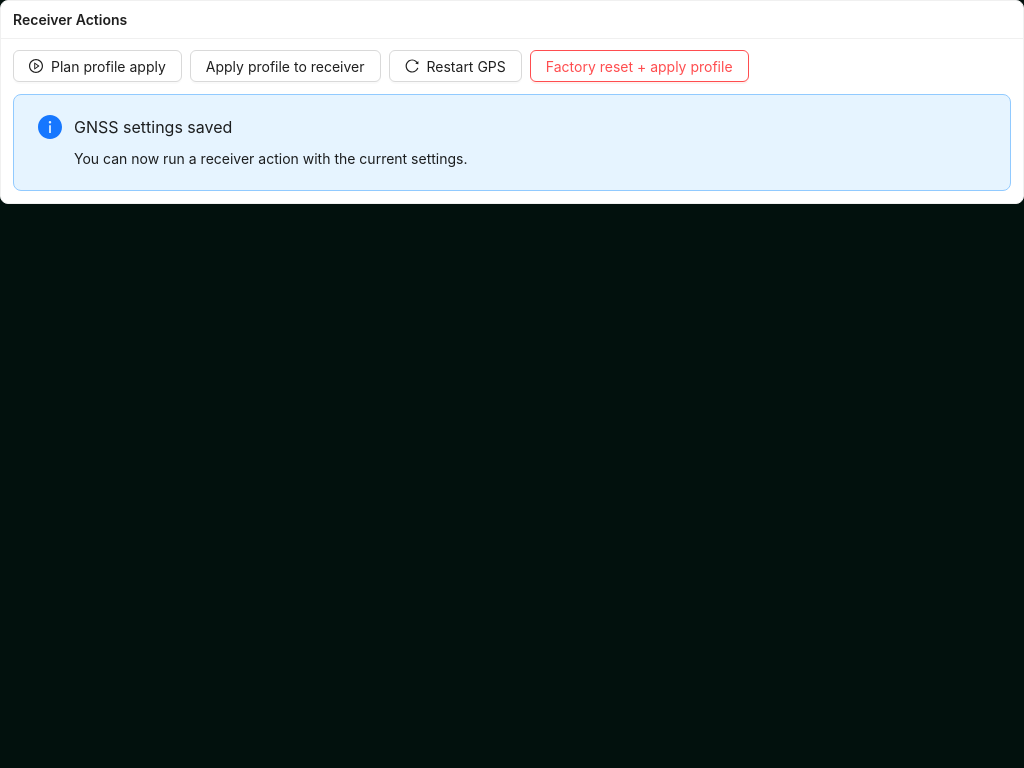
Test: GnssReceiverActionsCard › confirms before apply and sends confirm=true to the backend
Click the button "Apply profile to receiver" at (285, 66), box [190, 50, 380, 82]
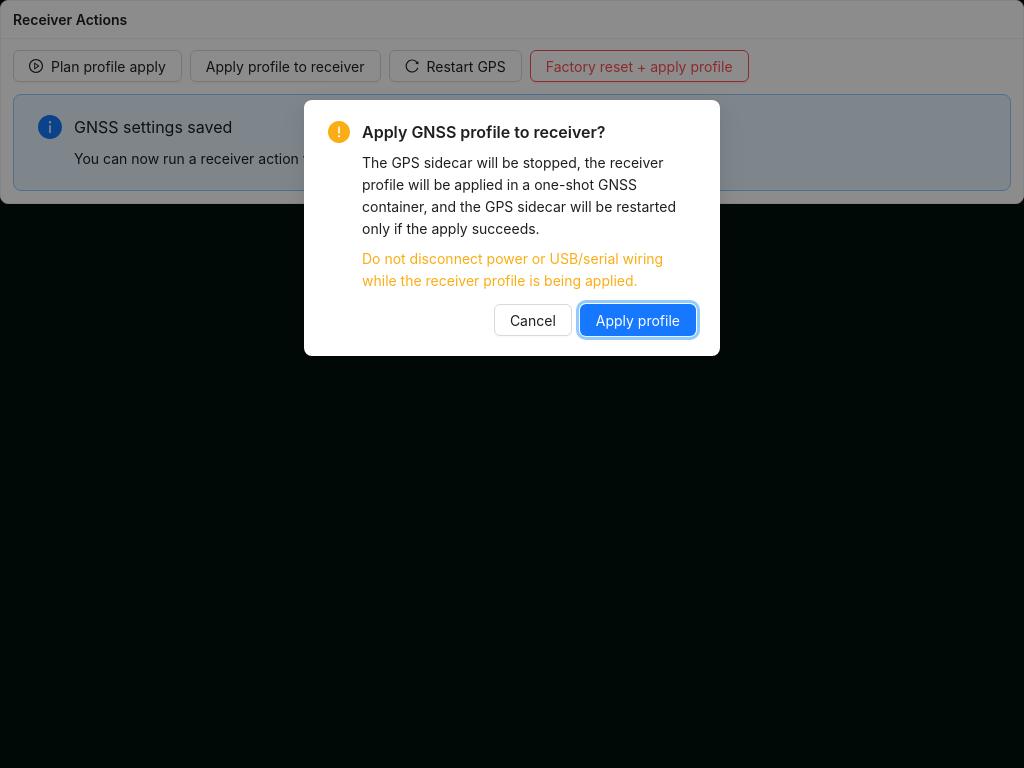
Click the button "Apply profile" at (638, 320), box [580, 304, 696, 336]
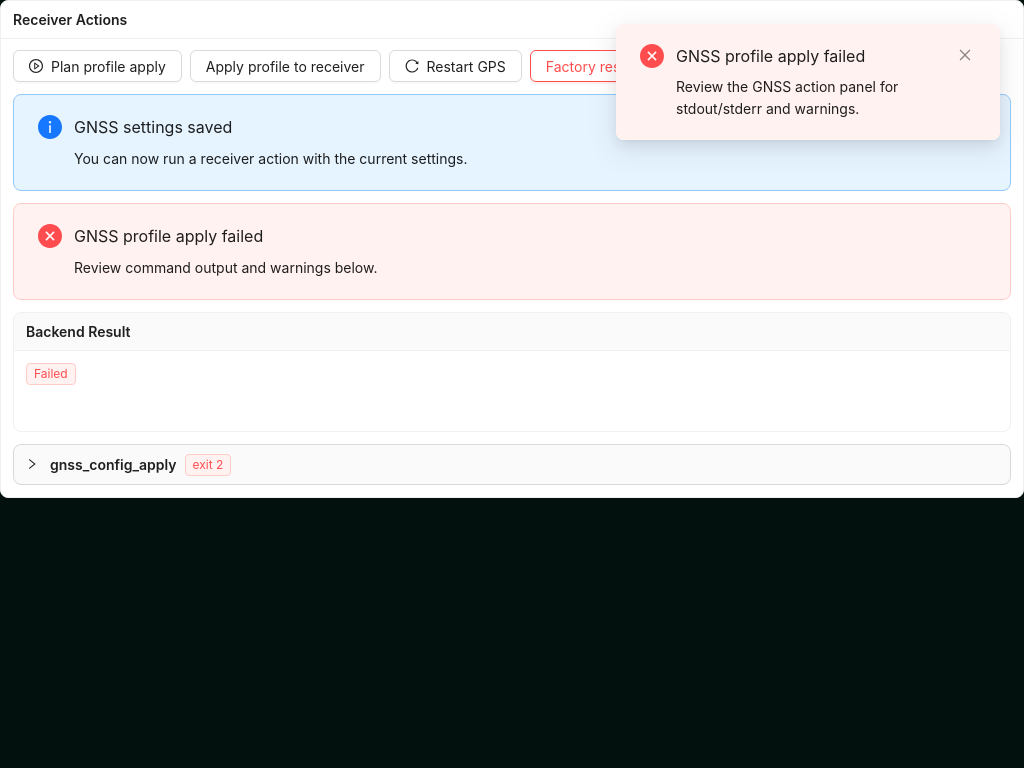
expect the text "GNSS profile apply failed" below "GNSS settings saved" is shown: met, box [74, 226, 263, 246]
